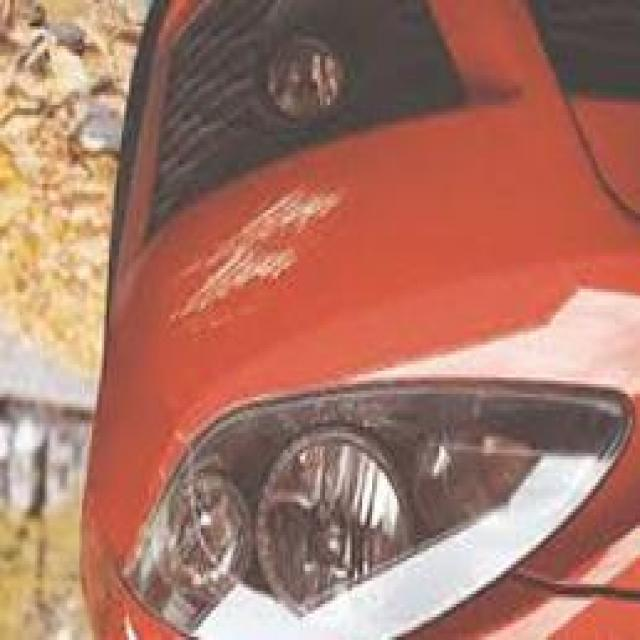scratch: (154, 177, 352, 345)
